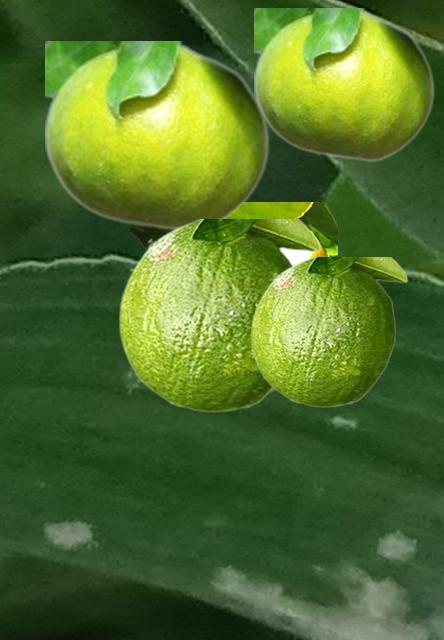dalandan: (45, 41, 269, 232), (130, 202, 336, 396), (118, 219, 320, 411), (254, 8, 434, 161), (250, 257, 407, 406)
